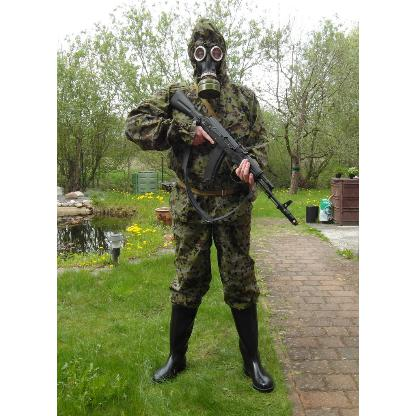gun: (150, 89, 298, 231)
